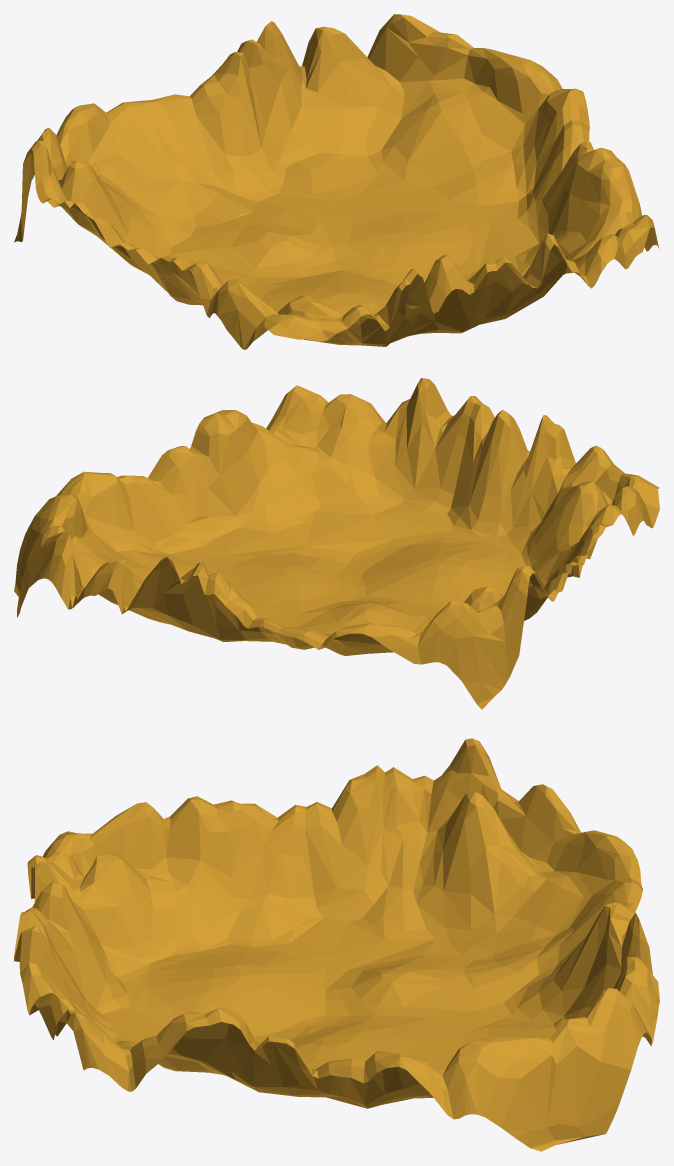
Rendered from Desert.fbx.
3 views of the same model, one above another, from view 1: azimuth 30°, elevation 25°; view 2: azimuth 150°, elevation 25°; view 3: azimuth 270°, elevation 25° (orthographic). The views are drawn at different scales.
Visible parts, largest first — view 1: Plane.007; view 2: Plane.007; view 3: Plane.007.
Boxes of the visible parts, box(x1,y1,x2,y2) form: Plane.007: box(14, 14, 658, 349); Plane.007: box(14, 378, 659, 709); Plane.007: box(14, 738, 659, 1151).
Bounding box in the file's own units: 78943 × 20000 × 74700.
